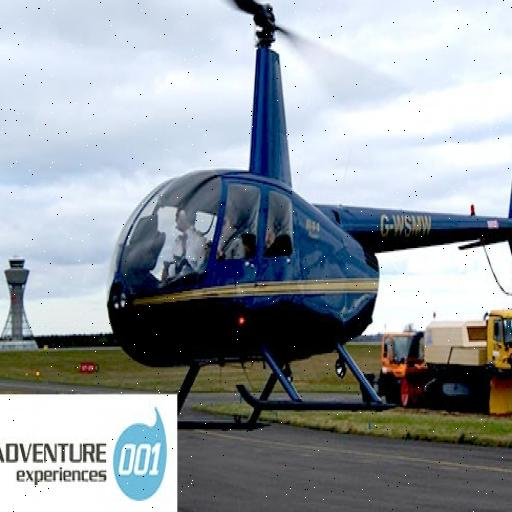helicopter: (109, 1, 512, 430)
